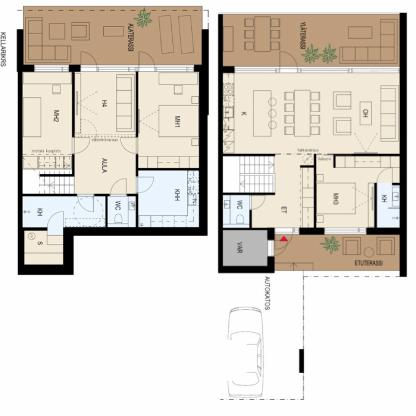door: (278, 51, 300, 79), (137, 51, 157, 75), (133, 177, 156, 196), (80, 50, 98, 74), (78, 192, 96, 215), (118, 135, 138, 155), (45, 211, 65, 230), (110, 179, 131, 197), (70, 136, 90, 154), (375, 166, 395, 184), (264, 240, 286, 255), (276, 228, 294, 246), (250, 193, 266, 210)
window: (80, 63, 135, 74), (322, 226, 366, 236), (134, 65, 194, 72), (347, 67, 398, 74), (297, 68, 350, 74), (233, 67, 278, 74), (34, 65, 70, 72), (272, 226, 302, 234)
zone: (224, 72, 400, 154), (23, 7, 202, 63), (222, 15, 398, 63), (73, 72, 136, 193), (222, 156, 312, 226), (315, 155, 399, 228), (23, 73, 73, 193), (138, 71, 197, 167), (276, 235, 397, 268), (136, 169, 198, 227), (22, 196, 105, 226), (222, 231, 267, 266), (24, 230, 63, 263), (221, 194, 250, 227), (108, 194, 136, 228)
